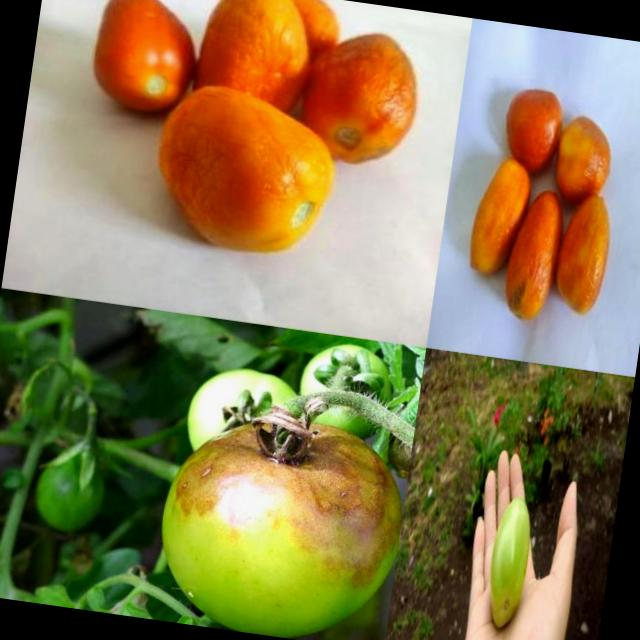Rotten_Tomato: (150, 399, 415, 640), (135, 70, 355, 269), (281, 17, 440, 185), (183, 0, 330, 128), (79, 0, 209, 122), (499, 186, 570, 326), (464, 155, 536, 286), (550, 190, 618, 319), (498, 80, 567, 182), (549, 111, 618, 212)
